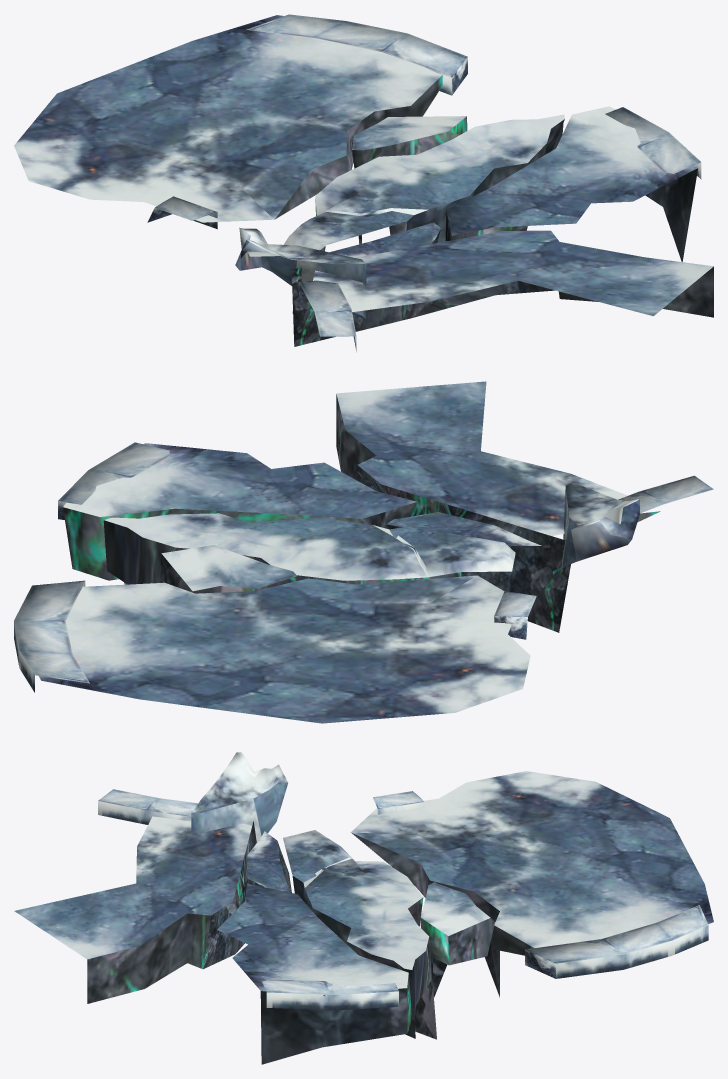
The model's file is S_Build_Snowland206_2.FBX.
3 views of the same model, one above another, from view 1: azimuth 30°, elevation 25°; view 2: azimuth 150°, elevation 25°; view 3: azimuth 270°, elevation 25° (orthographic). The views are drawn at different scales.
Parts seen in each view (by area): view 1: S_Build_Snowland206_2; view 2: S_Build_Snowland206_2; view 3: S_Build_Snowland206_2.
Part boxes in pixels (<box>): S_Build_Snowland206_2: <box>14,14,713,352</box>; S_Build_Snowland206_2: <box>14,381,713,723</box>; S_Build_Snowland206_2: <box>14,752,713,1064</box>.
Size of the model in its own units: 713 by 939 by 224.
